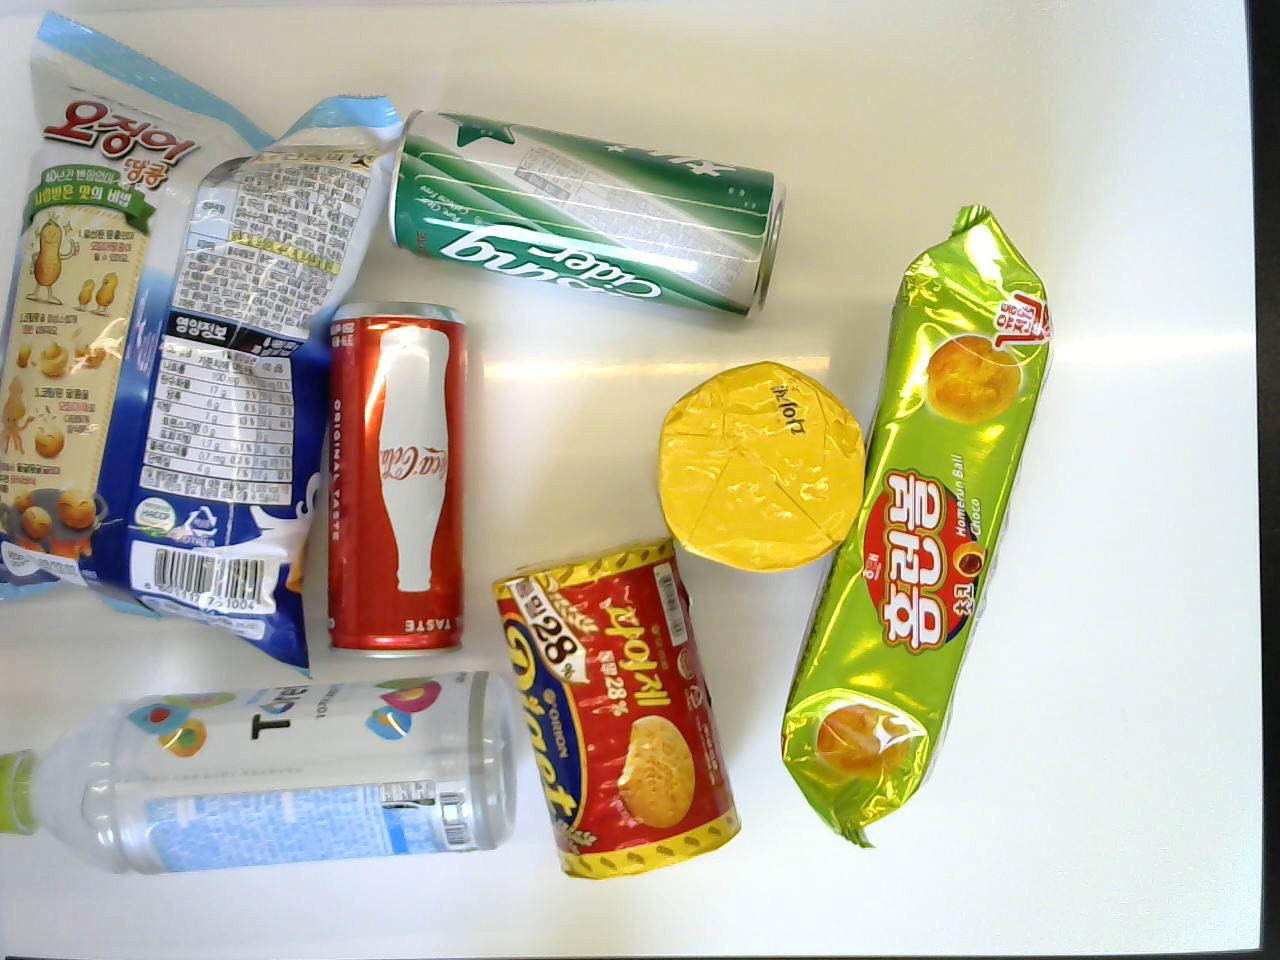cidar: (387, 105, 788, 322)
coke: (326, 301, 462, 658)
diget_choco: (652, 356, 868, 573)
diget_ori: (491, 536, 743, 881)
homerunball: (774, 201, 1055, 849)
squid_peanut: (0, 11, 405, 664)
toreta: (0, 666, 518, 882)
